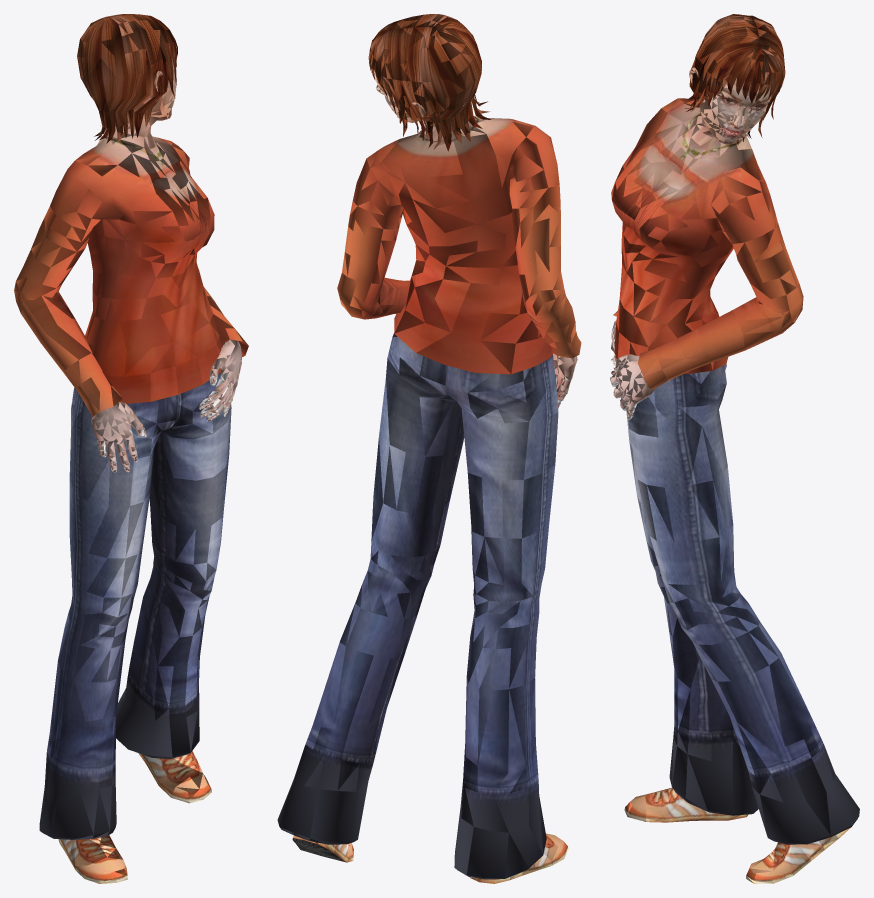
File: people2.glb
3 renders of one model, left to right at view 1: azimuth 30°, elevation 25°; view 2: azimuth 150°, elevation 25°; view 3: azimuth 270°, elevation 25°, orthographic. The views are drawn at different scales.
Visible parts, largest first — view 1: female01; view 2: female01; view 3: female01.
Boxes of the visible parts, box(x1,y1,x2,y2) form: female01: box(14, 14, 248, 883); female01: box(277, 14, 581, 883); female01: box(610, 14, 859, 883).
Bounding box in the file's own units: 0.2816 × 1 × 0.2749.
Materials: 4 (3 with a texture image).
